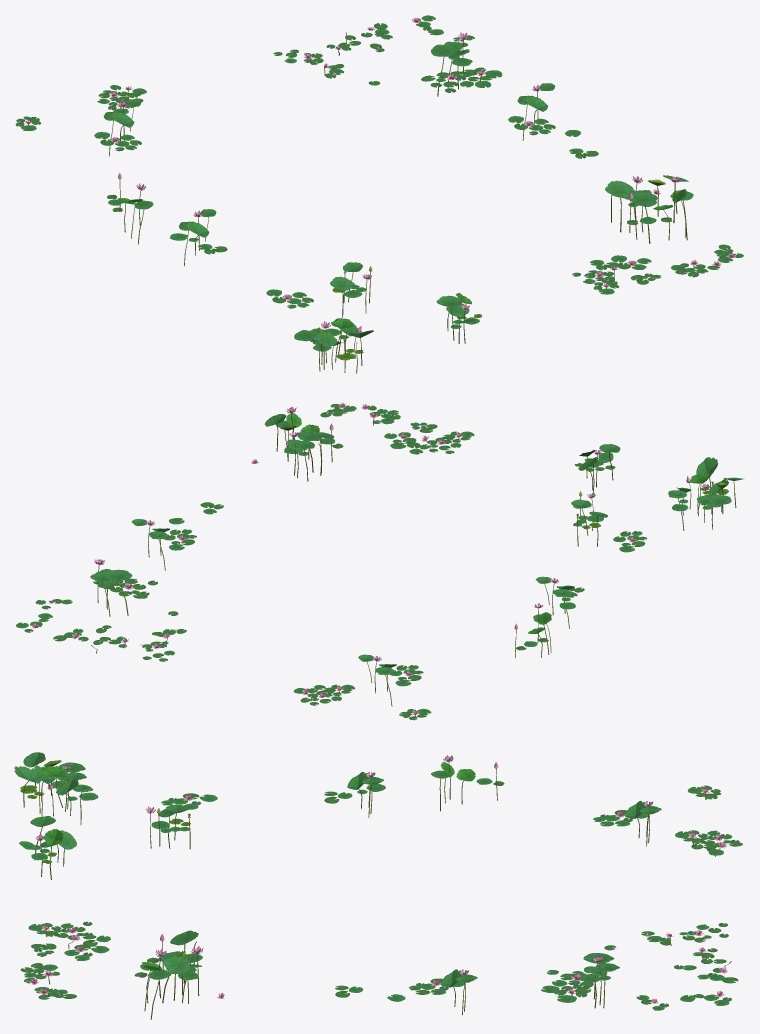
The picture shows the model from 3 angles, top to bottom: view 1: azimuth 30°, elevation 25°; view 2: azimuth 150°, elevation 25°; view 3: azimuth 270°, elevation 25°; orthographic projection. The views are drawn at different scales.
Visible parts, largest first — view 1: MS0007_01; view 2: MS0007_01; view 3: MS0007_01.
Boxes of the visible parts, x1,y1,x2,y2 form: MS0007_01: (15,15,743,373); MS0007_01: (16,403,744,720); MS0007_01: (14,752,742,1019).
Bounding box in the file's own units: 46.63 × 6.31 × 60.59.
